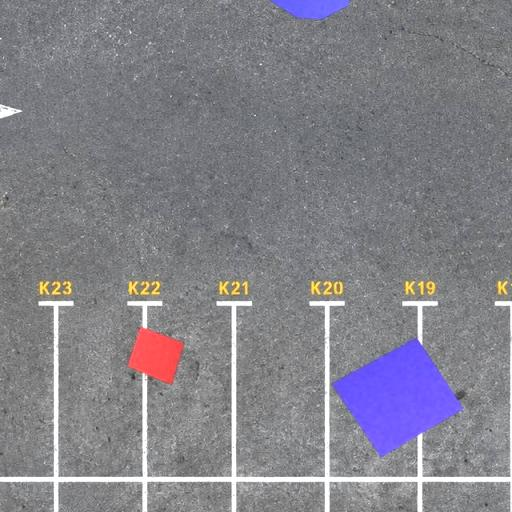BLUE_SQUARE: (330, 336, 464, 458)
RED_SQUARE: (126, 326, 186, 386)
